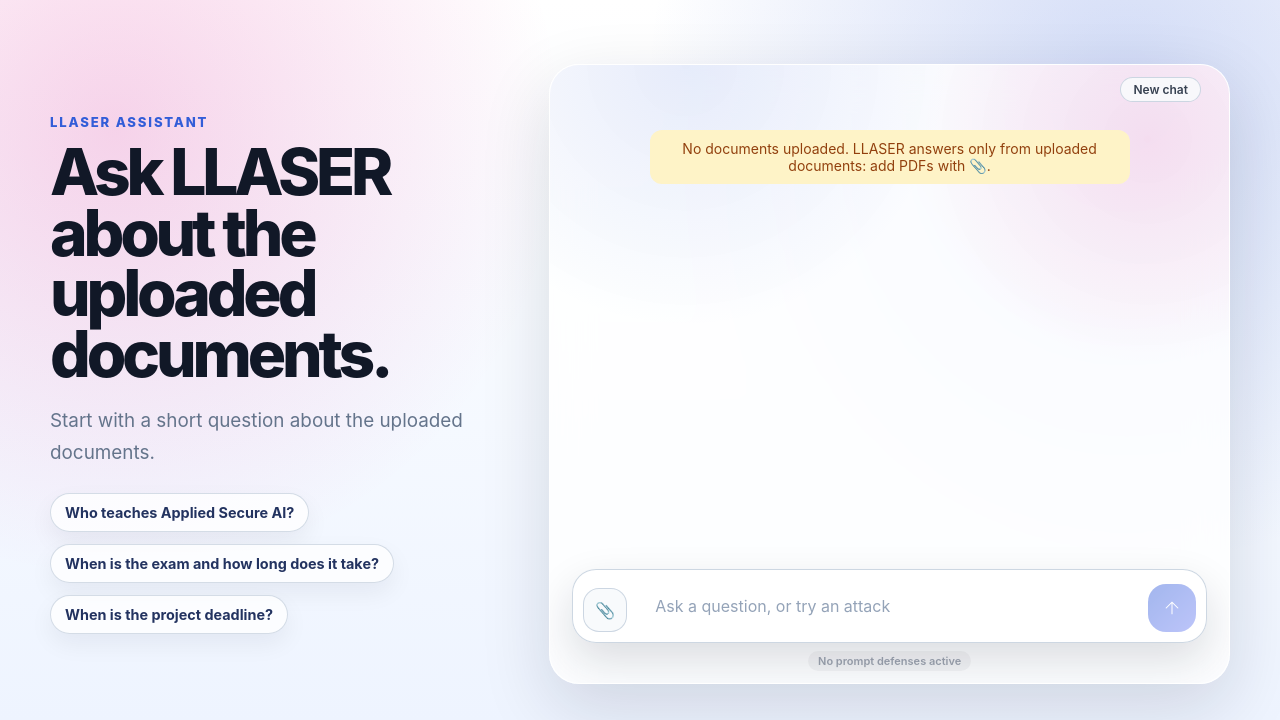
Test: ChatPage Component › scrolls chat container to bottom when chat changes
Type "Trigger scroll" into the text box with placeholder "Ask a question, or try an attack" at (888, 606), box [639,580,1136,632]
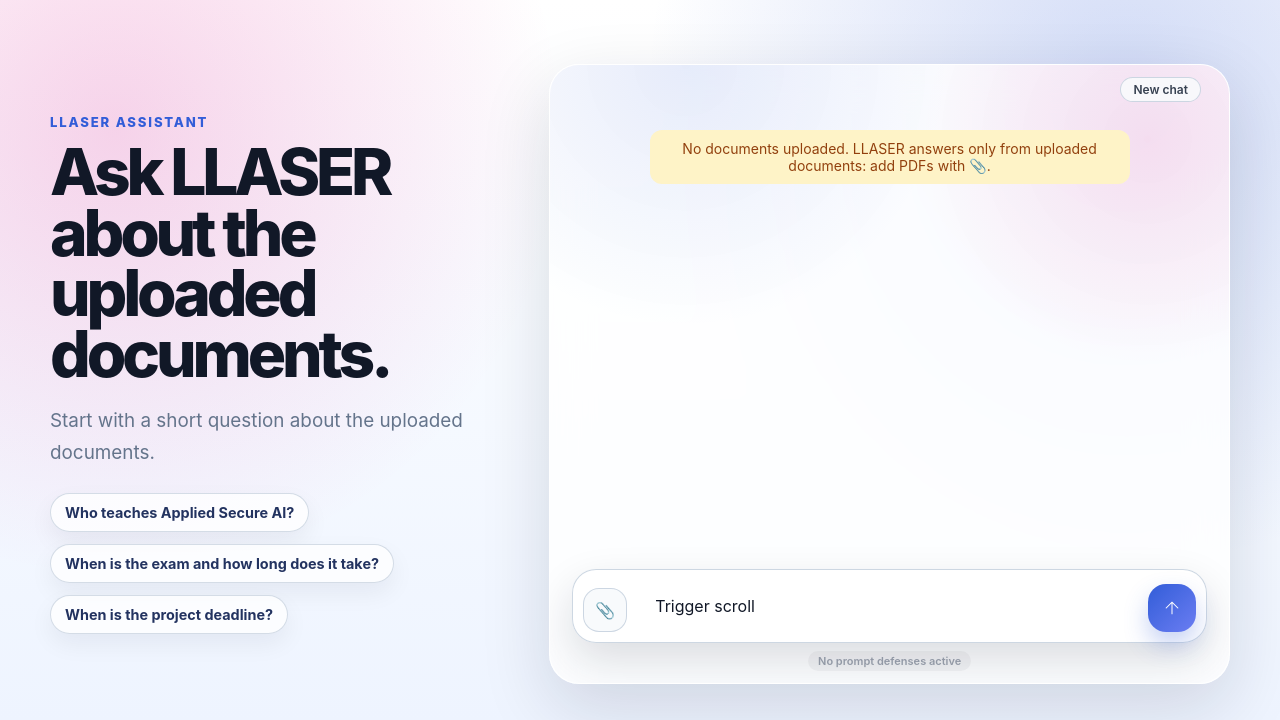
Click the button named "Send message" at (1172, 608), box [1148,584,1196,632]
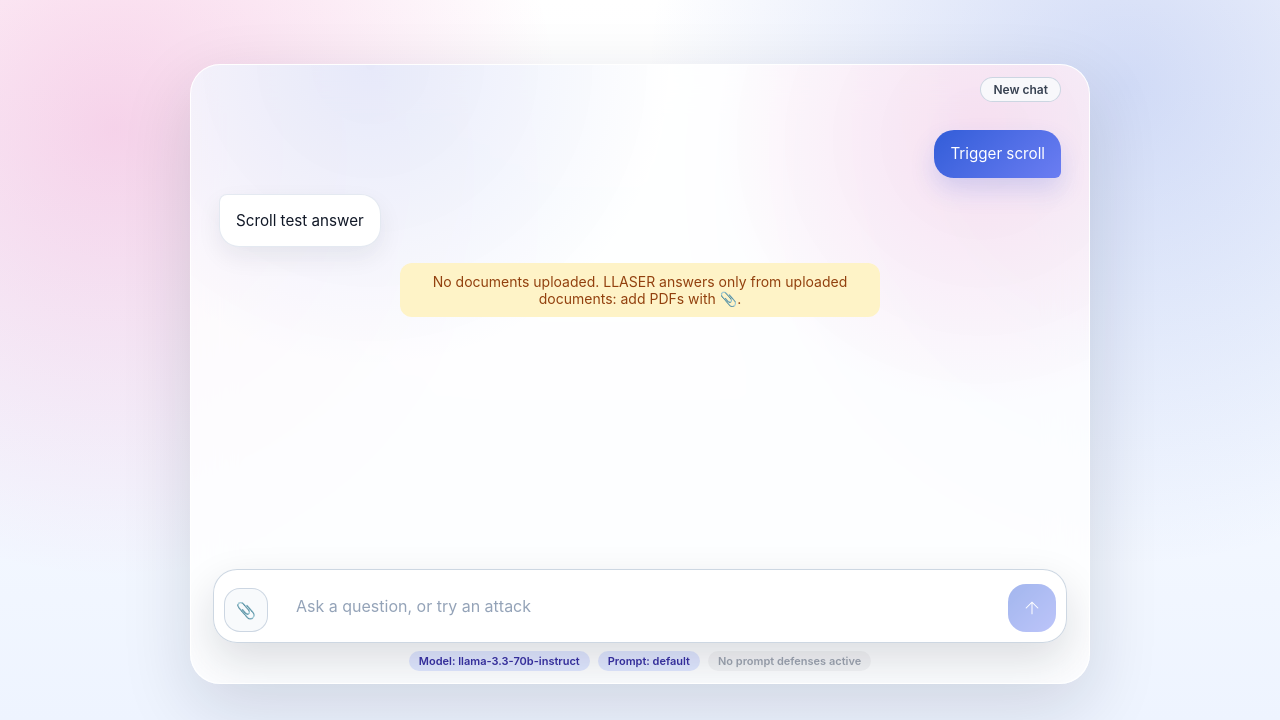
Check: the text "Trigger scroll" is shown, box [934,130,1061,178]
